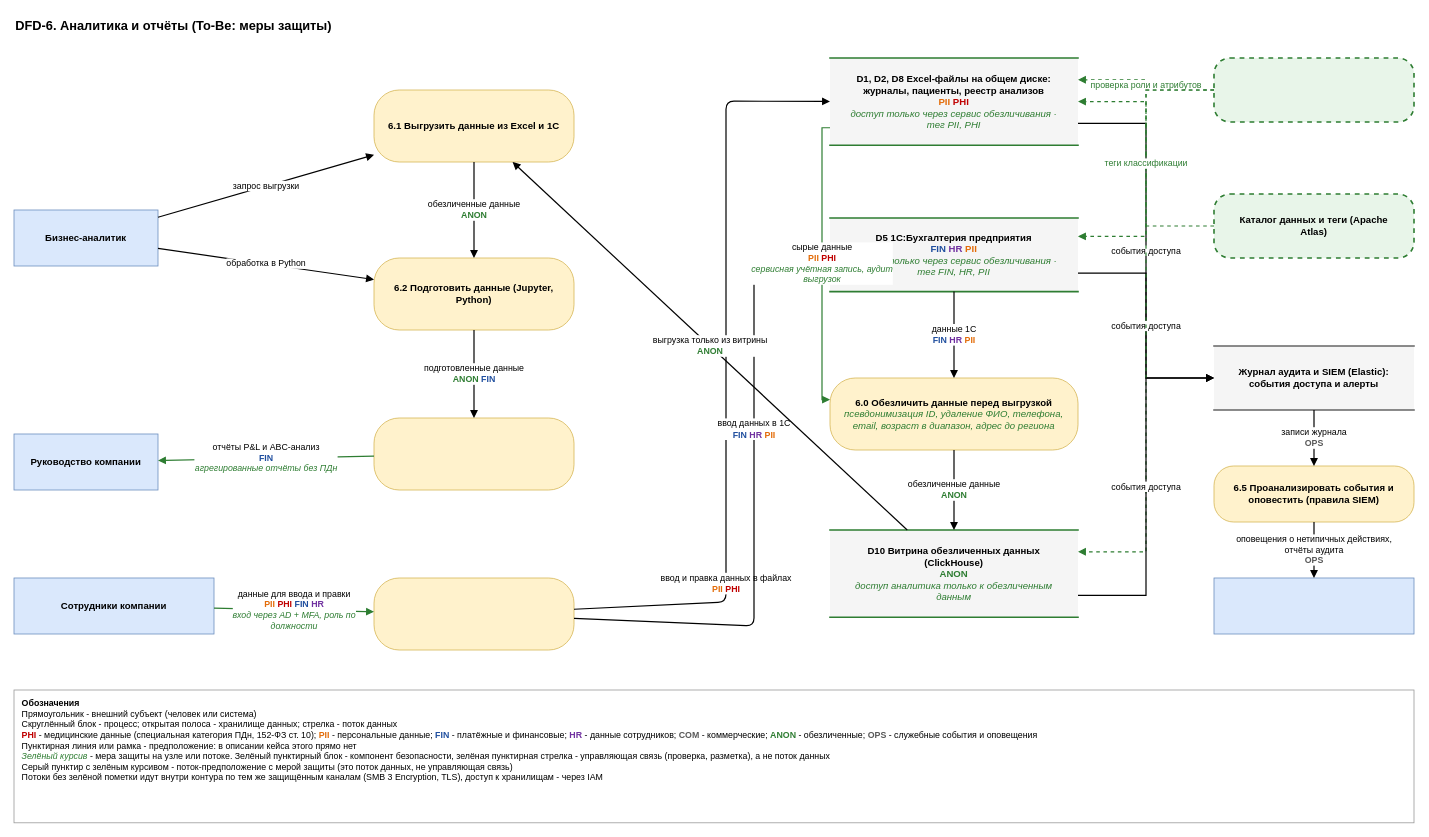
Some shapes in this 1429 by 837 pixel diagram are drawn without their labels. Each missing label, with the centre of its shape:
"6.3 Построить отчёты (P&L, ABC- анализ)" belongs at point (473, 453).
"6.4 Вводить и править данные в файлах и 1С" belongs at point (473, 613).
"IAM (Keycloak + AD): MFA, RBAC и ABAC" belongs at point (1313, 89).
"Команда IT и ответственный за ПДн" belongs at point (1313, 605).
